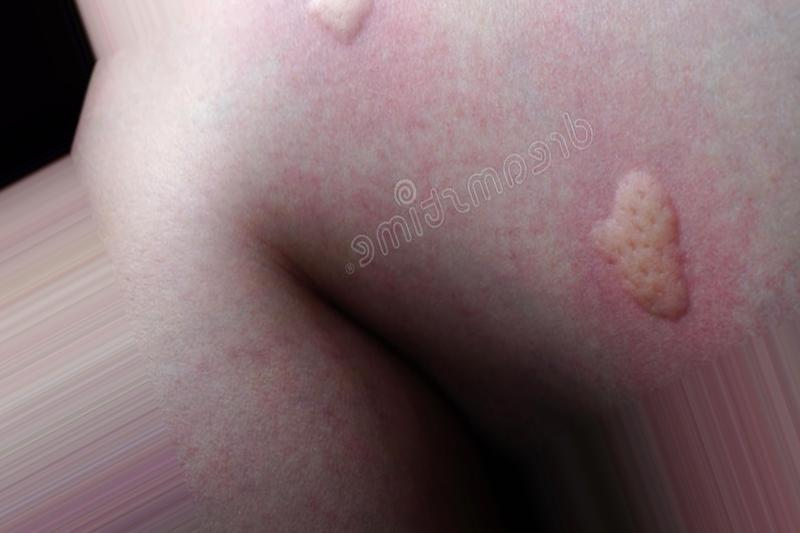Mosquito: (572, 160, 714, 337)
